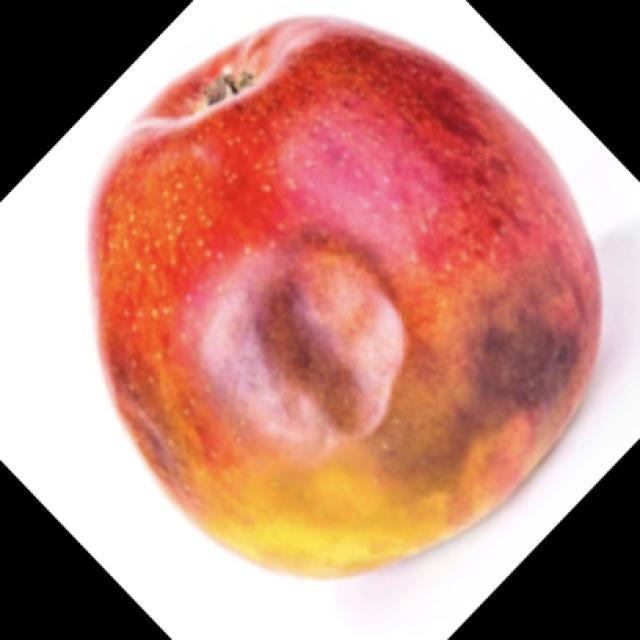Rotten: (77, 25, 610, 585)
